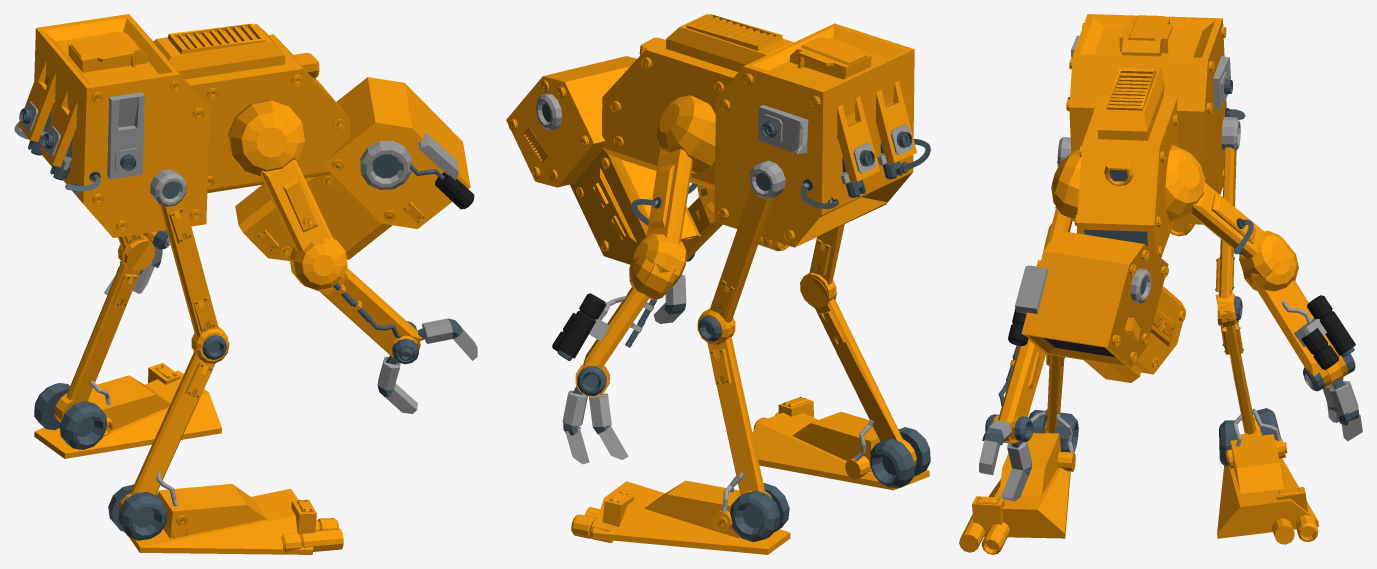
The model's file is grabbot.glb.
The picture shows the model from 3 angles, left to right: view 1: azimuth 30°, elevation 25°; view 2: azimuth 150°, elevation 25°; view 3: azimuth 270°, elevation 25°; orthographic projection. The views are drawn at different scales.
Visible parts, largest first — view 1: group1564649303, group413298686, group359784452, group1355554350, group1920920035, group585573424, group2141321121, group1217092468, group394009208, group60761917, group1298728711, group578754670 (+10 smaller); view 2: group1564649303, group413298686, group1920920035, group359784452, group137846306, group1366056911, group1083687782, group1217092468, group1093227335, group394009208, group1298728711, group578754670 (+13 smaller); view 3: group1564649303, group413298686, group1920920035, group359784452, group1366056911, group137846306, group585573424, group1093227335, group1083687782, group1355554350, group1217092468, group440139989 (+8 smaller).
Boxes of the visible parts, box(x1,y1,x2,y2) form: group1564649303: box(34, 14, 350, 237); group413298686: box(235, 77, 474, 260); group359784452: box(128, 484, 343, 554); group1355554350: box(227, 99, 347, 290); group1920920035: box(34, 362, 221, 458); group585573424: box(319, 267, 477, 413); group2141321121: box(150, 169, 227, 350); group1217092468: box(54, 239, 154, 422); group394009208: box(118, 334, 229, 512); group60761917: box(107, 92, 144, 179); group1298728711: box(17, 58, 55, 155); group578754670: box(40, 87, 77, 180); group1564649303: box(601, 14, 914, 247); group413298686: box(506, 56, 700, 264); group1920920035: box(571, 480, 790, 554); group359784452: box(752, 397, 929, 490); group137846306: box(632, 95, 715, 287); group1366056911: box(552, 257, 675, 368); group1083687782: box(699, 160, 785, 343); group1217092468: box(697, 310, 771, 498); group1093227335: box(562, 364, 628, 464); group394009208: box(808, 277, 916, 466); group1298728711: box(837, 96, 879, 197); group578754670: box(875, 81, 916, 179); group1564649303: box(1069, 14, 1226, 257); group413298686: box(1008, 230, 1185, 382); group1920920035: box(1217, 432, 1318, 544); group359784452: box(959, 433, 1075, 554); group1366056911: box(1243, 247, 1355, 376); group137846306: box(1165, 145, 1289, 283); group585573424: box(979, 339, 1045, 501); group1093227335: box(1303, 353, 1362, 441); group1083687782: box(1217, 117, 1240, 326); group1355554350: box(1046, 149, 1081, 246); group1217092468: box(1215, 294, 1261, 437); group440139989: box(1106, 68, 1156, 110).
Bounding box in the file's own units: 0.2529 × 0.2818 × 0.2248.
